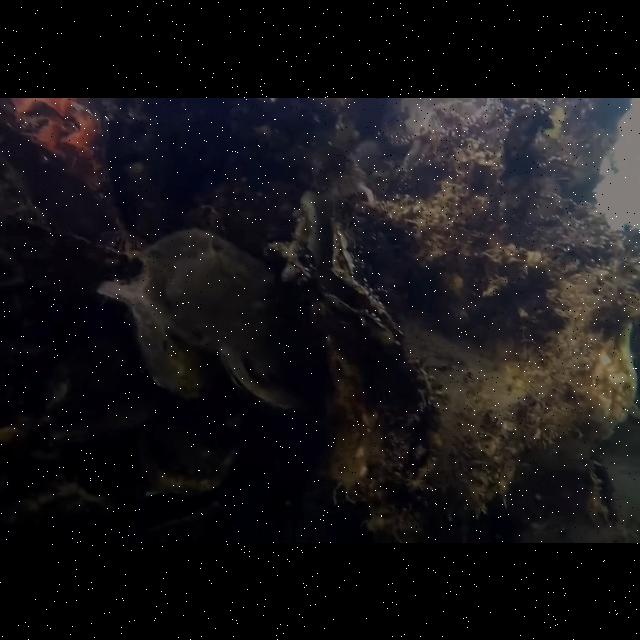Oyster-Closed: (140, 227, 318, 413)
Oyster-Open: (266, 188, 406, 354)
